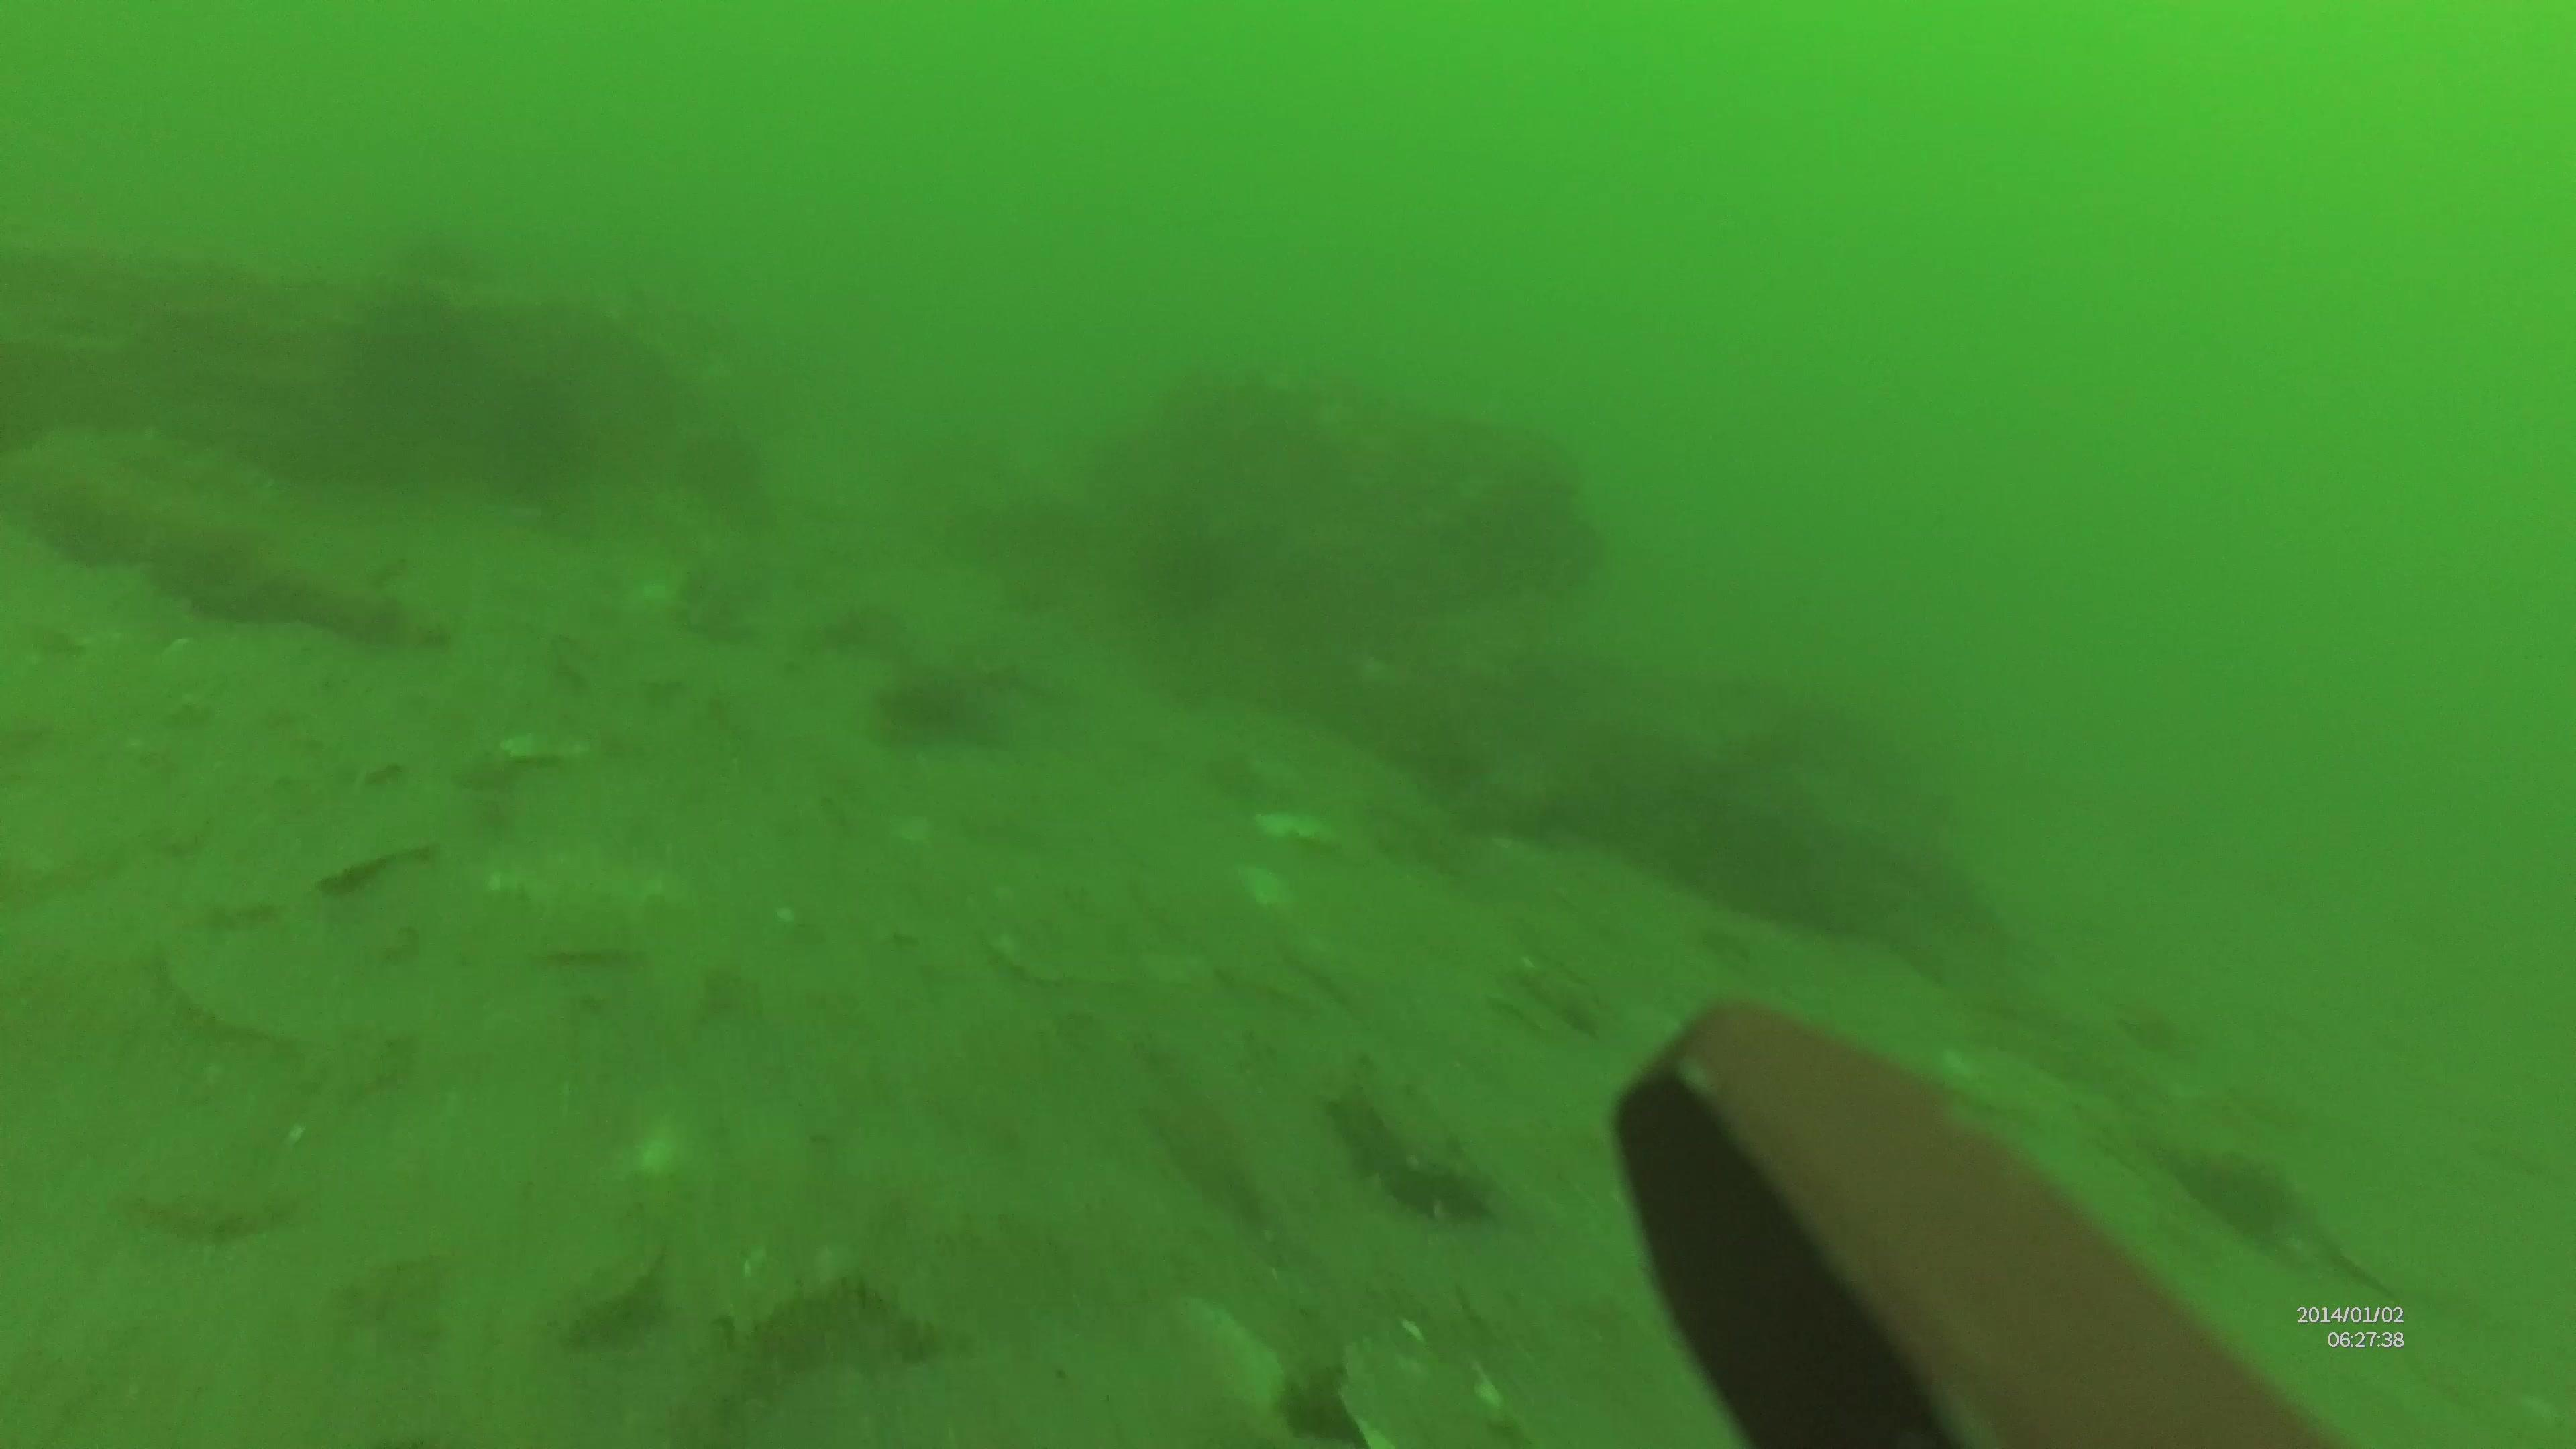holothurian: (1311, 1030, 1486, 1224)
